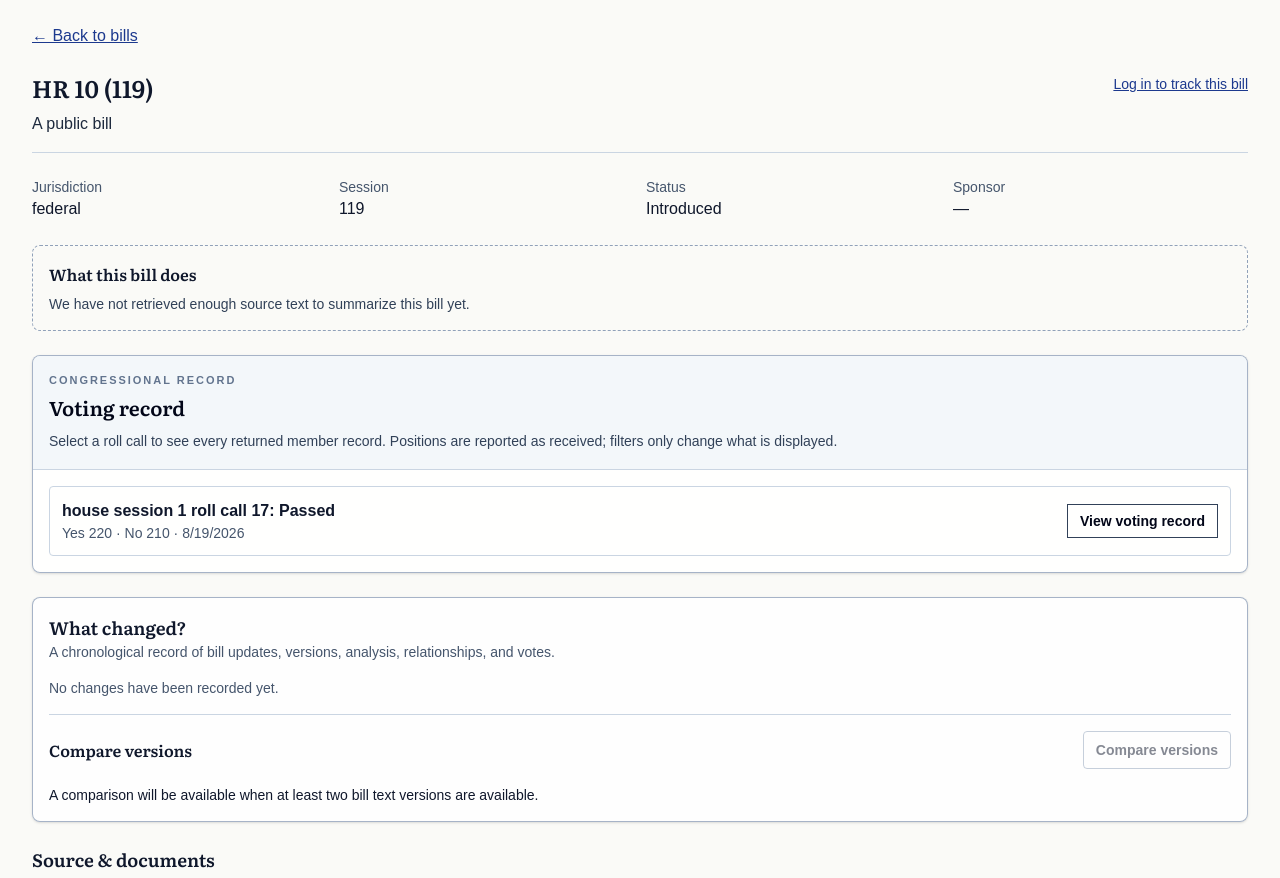
Scenario: BillDetailPage › shows a retryable error and clears stale positions when vote detail loading fails
Click the button "View voting record" at x=1142, y=520, box x1=1067 y1=504 x2=1218 y2=538
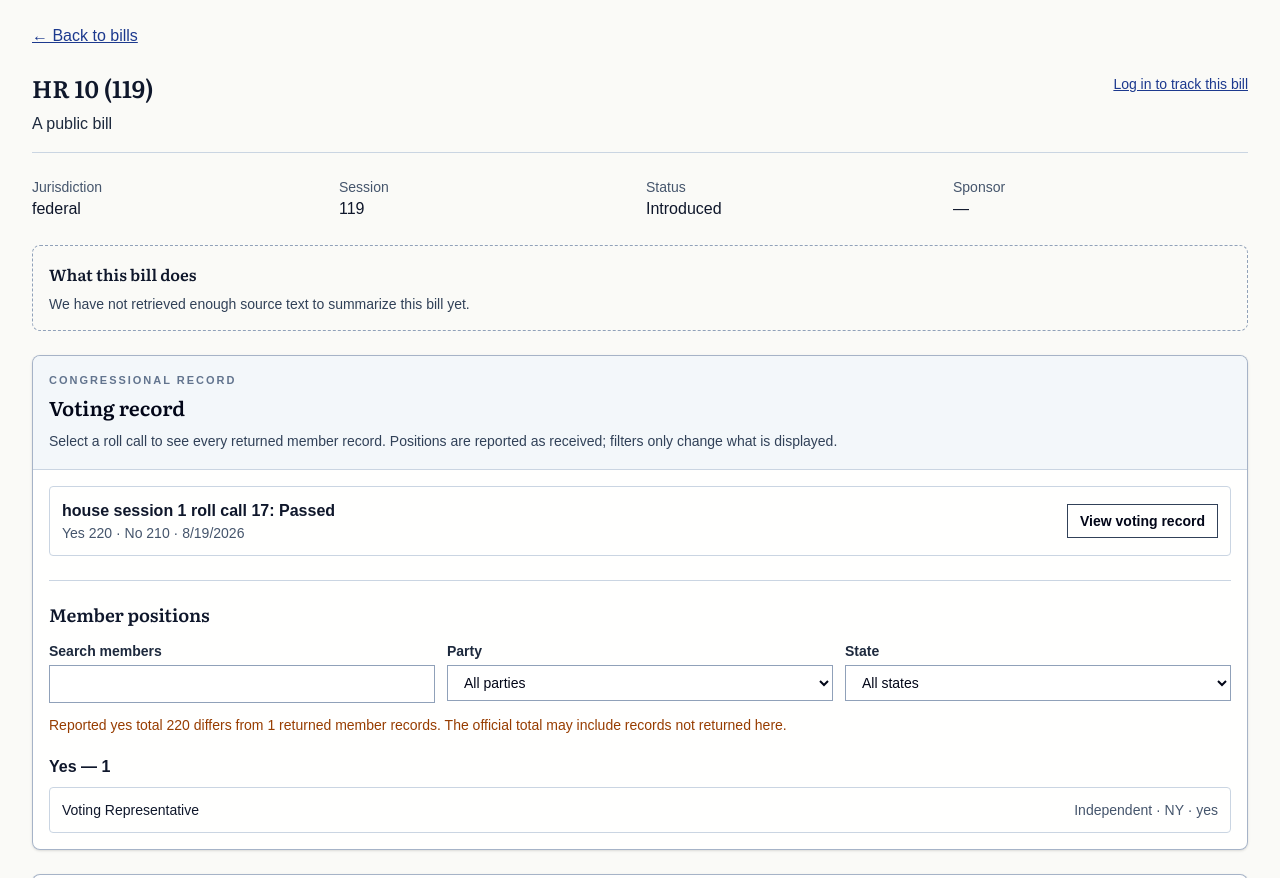
Expected: the text "Voting Representative" is shown, x1=62 y1=800 x2=199 y2=820
Click the button "View voting record" at x=1142, y=520, box x1=1067 y1=504 x2=1218 y2=538
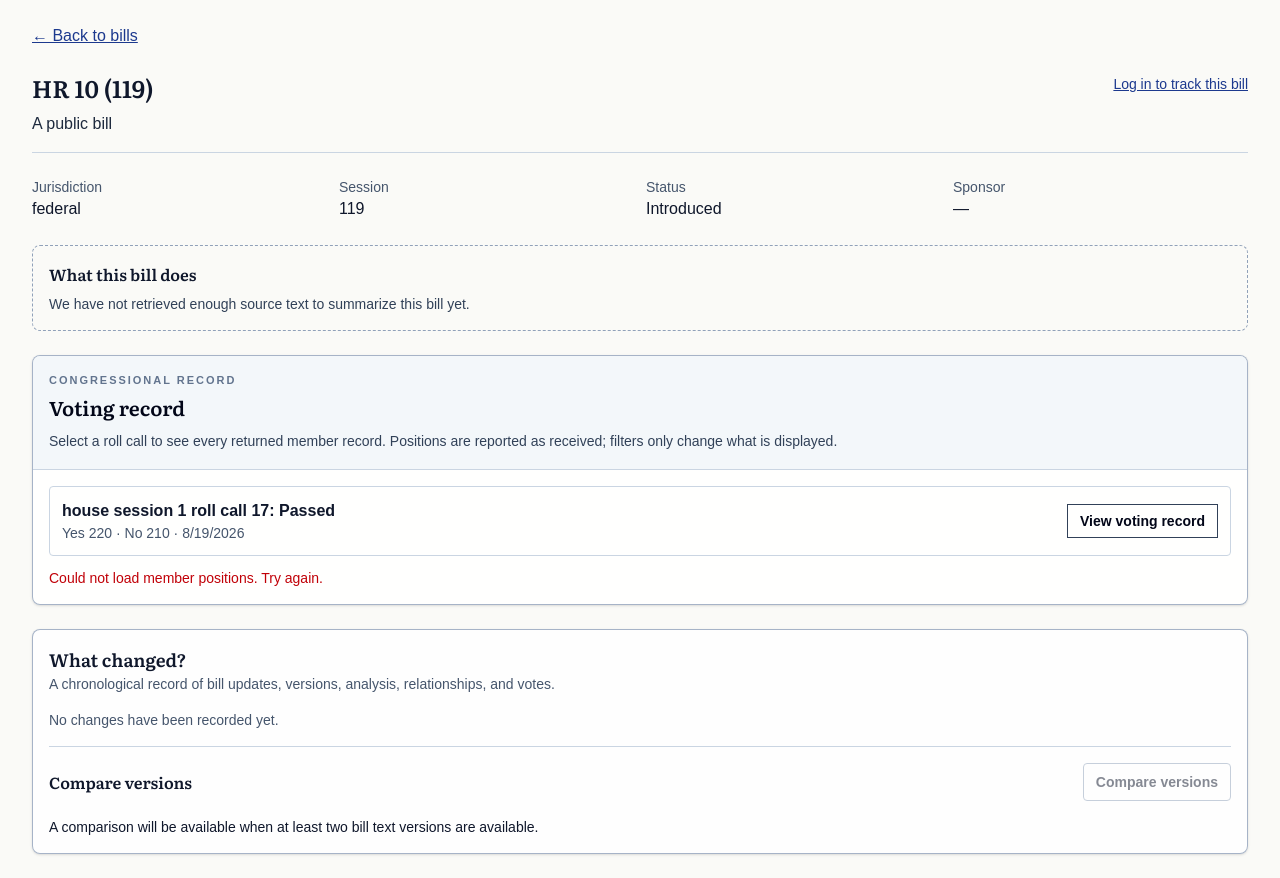
Expected: the message reads "Could not load member positions. Try again.", x1=49 y1=570 x2=323 y2=586
Expected: the text "Voting Representative" is gone
